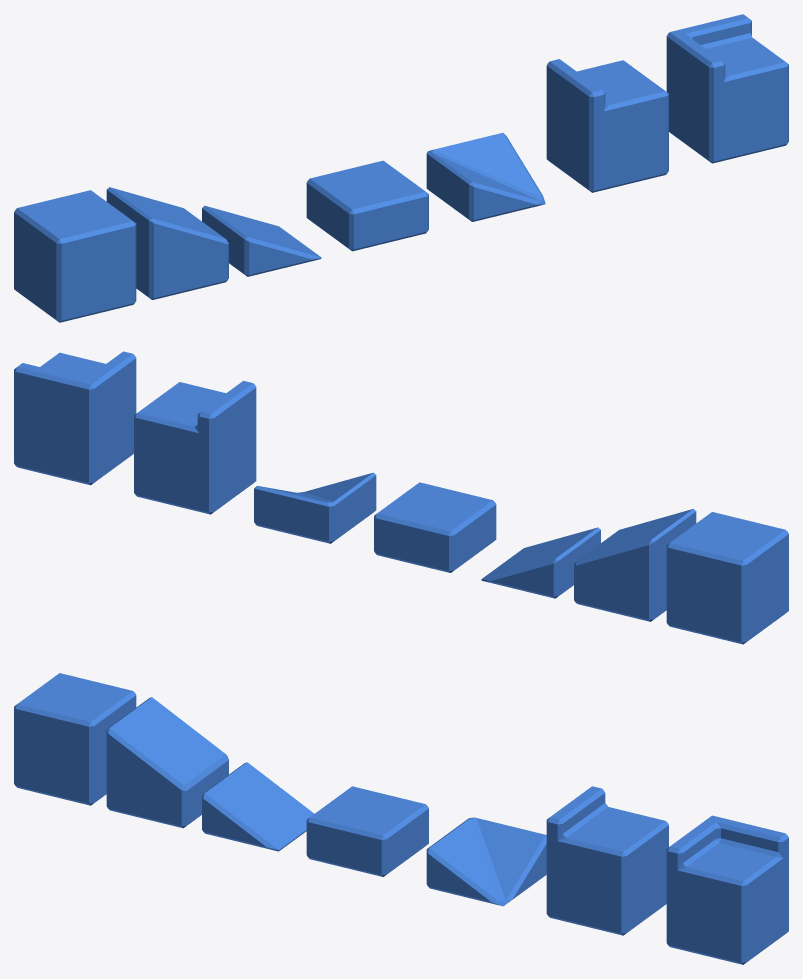
The model's file is world-blocks-v1.glb.
3 views of the same model, one above another, from view 1: azimuth 30°, elevation 25°; view 2: azimuth 150°, elevation 25°; view 3: azimuth 330°, elevation 25° (orthographic).
Parts seen in each view (by area): view 1: BlockWallCorner, BlockWall, Block, BlockShort, RampTop, RampLowerCorner, RampBottom; view 2: BlockWallCorner, BlockWall, Block, BlockShort, RampTop, RampLowerCorner, RampBottom; view 3: BlockWallCorner, BlockWall, Block, RampTop, BlockShort, RampLowerCorner, RampBottom.
Boxes of the visible parts, x1,y1,x2,y2 form: BlockWallCorner: [666, 14, 788, 163]; BlockWall: [546, 59, 668, 192]; Block: [14, 190, 136, 322]; BlockShort: [306, 160, 428, 251]; RampTop: [106, 187, 228, 299]; RampLowerCorner: [426, 132, 545, 221]; RampBottom: [202, 205, 321, 276]; BlockWallCorner: [14, 351, 136, 485]; BlockWall: [134, 380, 256, 514]; Block: [666, 512, 788, 644]; BlockShort: [374, 482, 496, 572]; RampTop: [574, 509, 696, 621]; RampLowerCorner: [254, 472, 376, 543]; RampBottom: [481, 527, 600, 598]; BlockWallCorner: [666, 815, 788, 964]; BlockWall: [546, 786, 668, 935]; Block: [14, 673, 136, 805]; RampTop: [106, 697, 228, 828]; BlockShort: [306, 786, 428, 876]; RampLowerCorner: [426, 817, 546, 906]; RampBottom: [202, 762, 314, 851].
Size of what is drawn, in the model's own units: 18.32 by 2.4 by 2.
